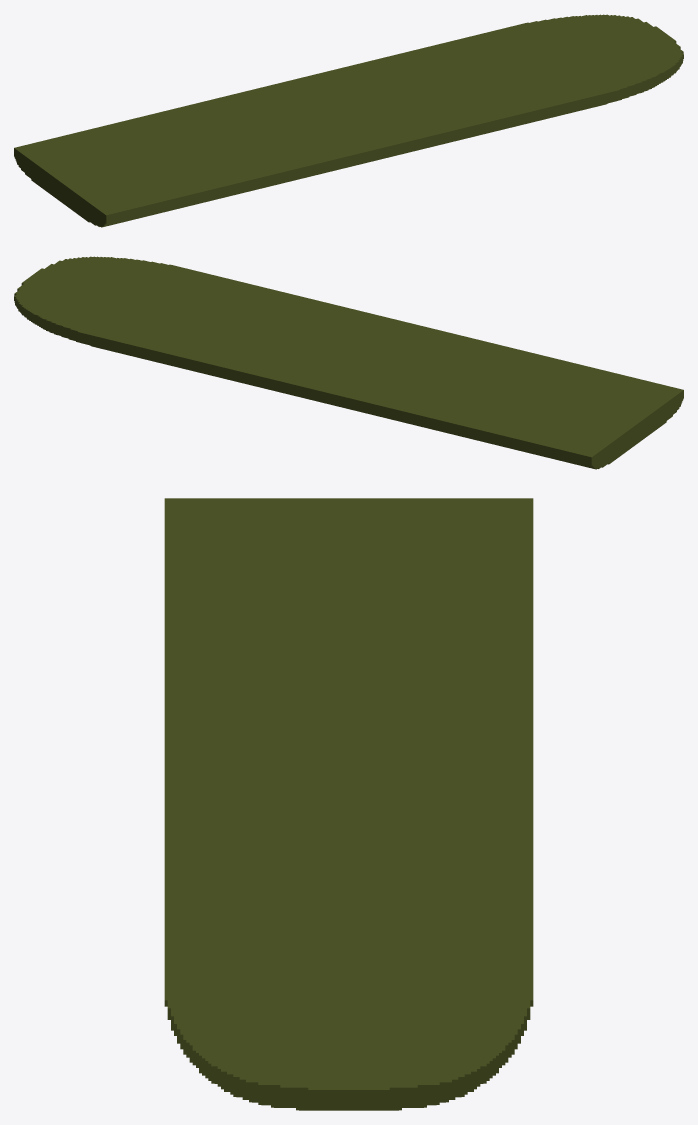
The model's file is heavy_cargo_helicopter_belly.glb.
The picture shows the model from 3 angles, top to bottom: view 1: azimuth 30°, elevation 25°; view 2: azimuth 150°, elevation 25°; view 3: azimuth 270°, elevation 25°; orthographic projection. The views are drawn at different scales.
Parts seen in each view (by area): view 1: body:compound; view 2: body:compound; view 3: body:compound.
Part boxes in pixels (<box>): body:compound: <box>14,14,683,227</box>; body:compound: <box>14,256,683,469</box>; body:compound: <box>164,498,533,1110</box>.
Size of the model in its own units: 14 by 0.4375 by 3.69.
